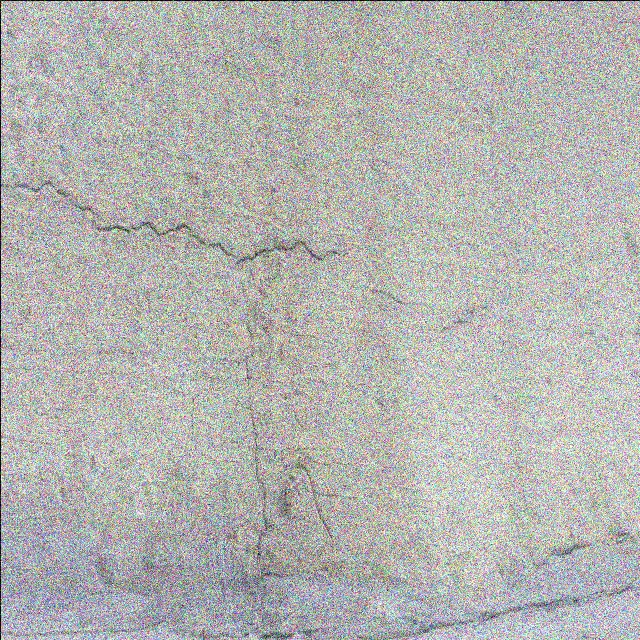SurfaceCrack: (2, 139, 635, 363)
